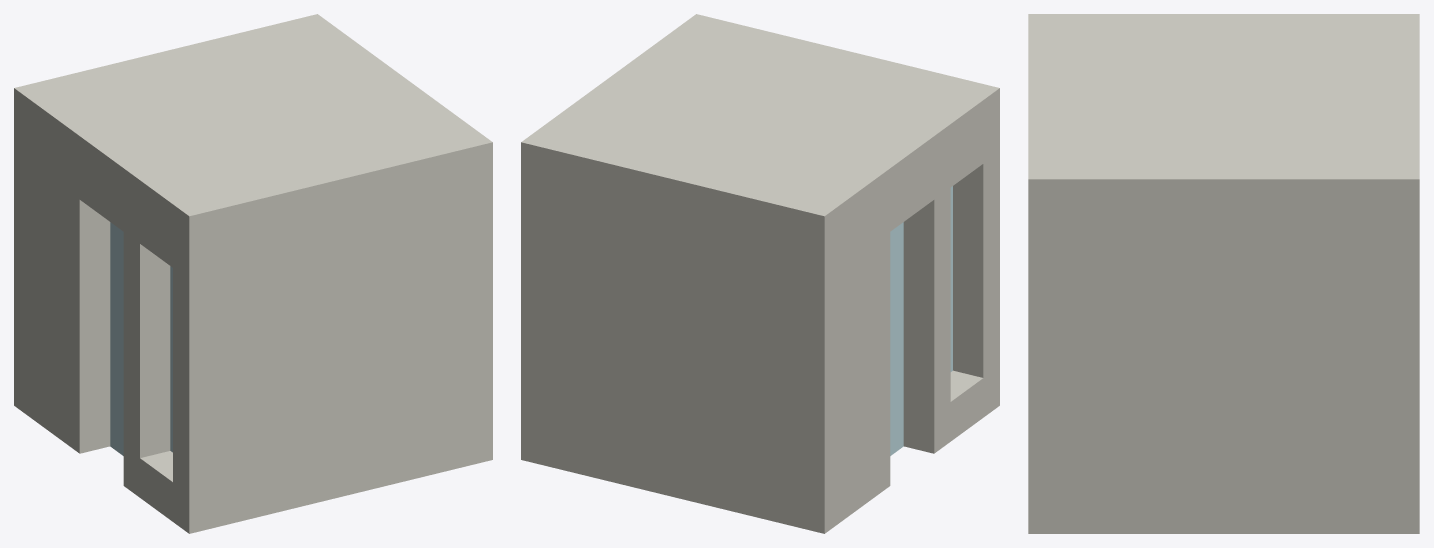
The model's file is Building Story 38.fbx.
The picture shows the model from 3 angles, left to right: view 1: azimuth 30°, elevation 25°; view 2: azimuth 150°, elevation 25°; view 3: azimuth 270°, elevation 25°; orthographic projection. The views are drawn at different scales.
Visible parts, largest first — view 1: Building Story 38; view 2: Building Story 38; view 3: Building Story 38.
Part boxes in pixels (x1,y1,x2,y2): Building Story 38: [14, 14, 492, 533]; Building Story 38: [521, 14, 999, 533]; Building Story 38: [1028, 14, 1419, 533].
Size of the model in its own units: 1 by 1 by 1.
